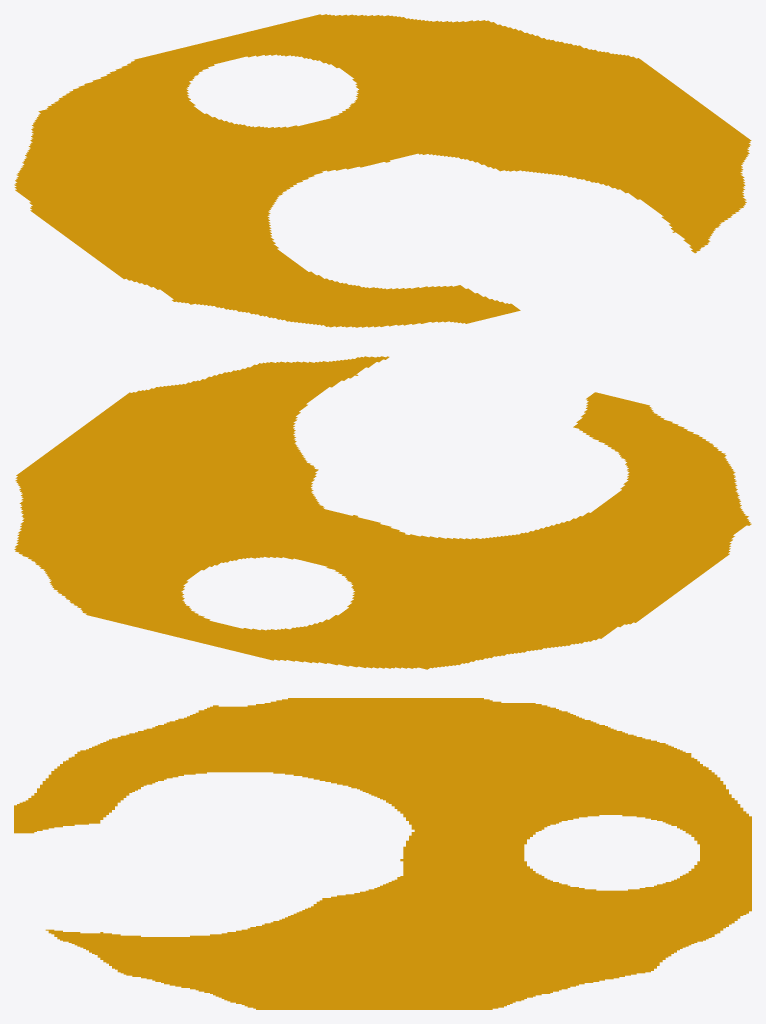
File: LavRiver.fbx
3 views of the same model, one above another, from view 1: azimuth 30°, elevation 25°; view 2: azimuth 150°, elevation 25°; view 3: azimuth 270°, elevation 25° (orthographic). The views are drawn at different scales.
Parts seen in each view (by area): view 1: LavaSubdividedCut; view 2: LavaSubdividedCut; view 3: LavaSubdividedCut.
Part boxes in pixels (x1,y1,x2,y2): LavaSubdividedCut: [14, 14, 751, 327]; LavaSubdividedCut: [14, 356, 751, 669]; LavaSubdividedCut: [14, 698, 751, 1009].
Size of the model in its own units: 12000 by 0.000763 by 12000.
